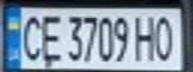0: (96, 12, 115, 62)
3: (63, 11, 84, 62)
7: (78, 12, 100, 63)
9: (112, 12, 133, 62)
C: (18, 10, 45, 63)
E: (39, 11, 63, 63)
H: (133, 11, 160, 62)
O: (151, 11, 181, 62)
